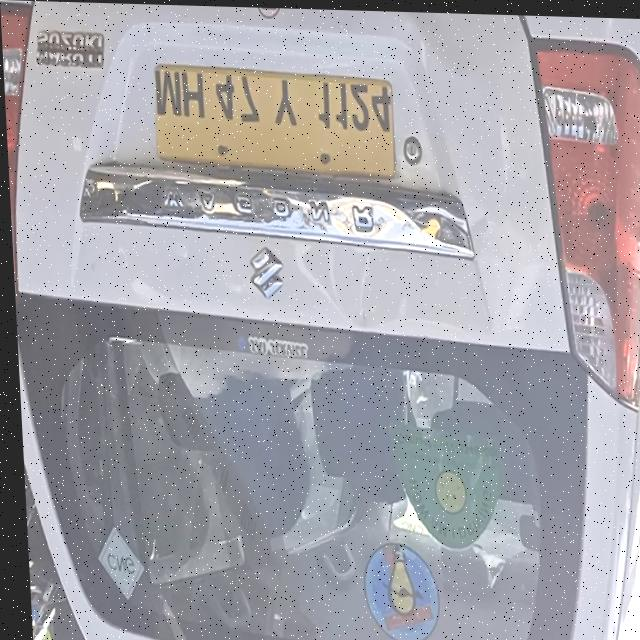plate: (150, 63, 396, 180)
